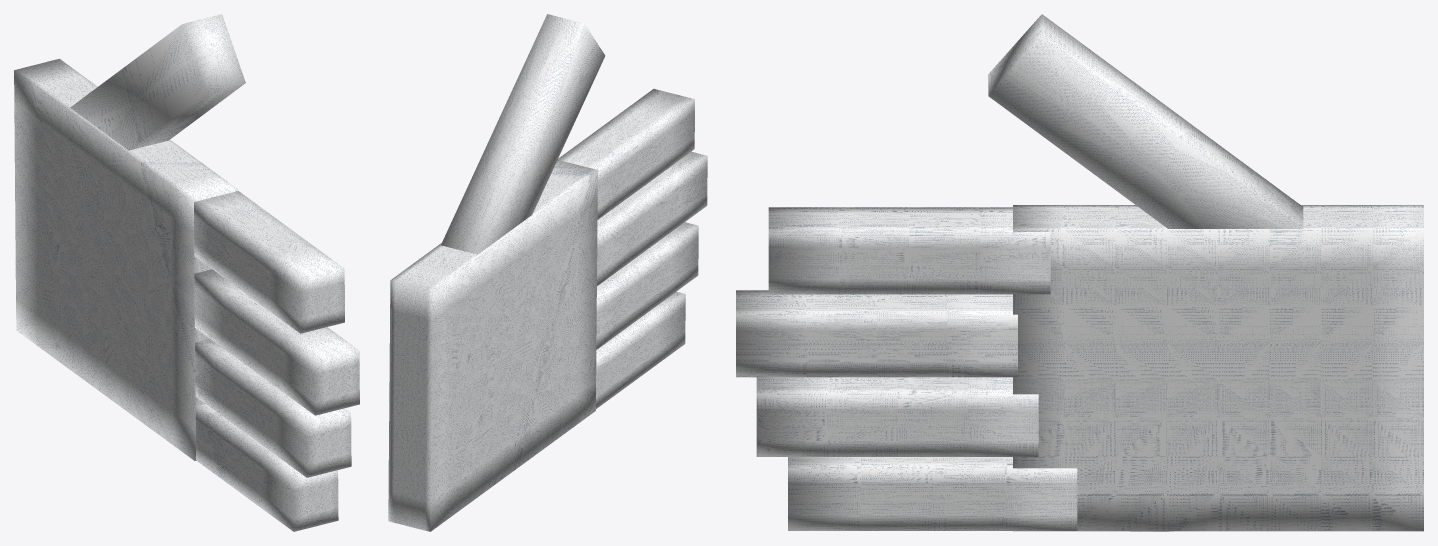
Rendered from Hand_Right_Openned.obj.
3 views of the same model, side by side, from view 1: azimuth 30°, elevation 25°; view 2: azimuth 150°, elevation 25°; view 3: azimuth 270°, elevation 25° (orthographic). The views are drawn at different scales.
Visible parts, largest first — view 1: Mesh1 G_3DGeom_1 cube_2 SimLab_2017_03_27_20_32_27_1 Model, Mesh5 G_3DGeom_5 cube4_1 SimLab_2017_03_27_20_32_27_1 Model, Mesh6 G_3DGeom_6 cube5_0 SimLab_2017_03_27_20_32_27_1 Model, Mesh4 G_3DGeom_4 cube3_1 SimLab_2017_03_27_20_32_27_1 Model, Mesh3 G_3DGeom_3 cube2_1 SimLab_2017_03_27_20_32_27_1 Model, Mesh2 G_3DGeom_2 cube1_1 SimLab_2017_03_27_20_32_27_1 Model; view 2: Mesh1 G_3DGeom_1 cube_2 SimLab_2017_03_27_20_32_27_1 Model, Mesh6 G_3DGeom_6 cube5_0 SimLab_2017_03_27_20_32_27_1 Model, Mesh5 G_3DGeom_5 cube4_1 SimLab_2017_03_27_20_32_27_1 Model, Mesh4 G_3DGeom_4 cube3_1 SimLab_2017_03_27_20_32_27_1 Model, Mesh3 G_3DGeom_3 cube2_1 SimLab_2017_03_27_20_32_27_1 Model, Mesh2 G_3DGeom_2 cube1_1 SimLab_2017_03_27_20_32_27_1 Model; view 3: Mesh1 G_3DGeom_1 cube_2 SimLab_2017_03_27_20_32_27_1 Model, Mesh6 G_3DGeom_6 cube5_0 SimLab_2017_03_27_20_32_27_1 Model, Mesh5 G_3DGeom_5 cube4_1 SimLab_2017_03_27_20_32_27_1 Model, Mesh4 G_3DGeom_4 cube3_1 SimLab_2017_03_27_20_32_27_1 Model, Mesh3 G_3DGeom_3 cube2_1 SimLab_2017_03_27_20_32_27_1 Model, Mesh2 G_3DGeom_2 cube1_1 SimLab_2017_03_27_20_32_27_1 Model.
Boxes of the visible parts, left/top/right/bottom form: Mesh1 G_3DGeom_1 cube_2 SimLab_2017_03_27_20_32_27_1 Model: left=14, top=58, right=238, bottom=460; Mesh5 G_3DGeom_5 cube4_1 SimLab_2017_03_27_20_32_27_1 Model: left=194, top=191, right=344, bottom=333; Mesh6 G_3DGeom_6 cube5_0 SimLab_2017_03_27_20_32_27_1 Model: left=70, top=14, right=245, bottom=150; Mesh4 G_3DGeom_4 cube3_1 SimLab_2017_03_27_20_32_27_1 Model: left=194, top=269, right=359, bottom=415; Mesh3 G_3DGeom_3 cube2_1 SimLab_2017_03_27_20_32_27_1 Model: left=195, top=339, right=351, bottom=477; Mesh2 G_3DGeom_2 cube1_1 SimLab_2017_03_27_20_32_27_1 Model: left=195, top=404, right=338, bottom=531; Mesh1 G_3DGeom_1 cube_2 SimLab_2017_03_27_20_32_27_1 Model: left=388, top=160, right=597, bottom=531; Mesh6 G_3DGeom_6 cube5_0 SimLab_2017_03_27_20_32_27_1 Model: left=441, top=14, right=605, bottom=254; Mesh5 G_3DGeom_5 cube4_1 SimLab_2017_03_27_20_32_27_1 Model: left=557, top=89, right=694, bottom=219; Mesh4 G_3DGeom_4 cube3_1 SimLab_2017_03_27_20_32_27_1 Model: left=597, top=151, right=707, bottom=285; Mesh3 G_3DGeom_3 cube2_1 SimLab_2017_03_27_20_32_27_1 Model: left=596, top=222, right=698, bottom=349; Mesh2 G_3DGeom_2 cube1_1 SimLab_2017_03_27_20_32_27_1 Model: left=596, top=291, right=685, bottom=408; Mesh1 G_3DGeom_1 cube_2 SimLab_2017_03_27_20_32_27_1 Model: left=1013, top=205, right=1423, bottom=531; Mesh6 G_3DGeom_6 cube5_0 SimLab_2017_03_27_20_32_27_1 Model: left=988, top=14, right=1303, bottom=228; Mesh5 G_3DGeom_5 cube4_1 SimLab_2017_03_27_20_32_27_1 Model: left=768, top=207, right=1050, bottom=294; Mesh4 G_3DGeom_4 cube3_1 SimLab_2017_03_27_20_32_27_1 Model: left=736, top=290, right=1017, bottom=377; Mesh3 G_3DGeom_3 cube2_1 SimLab_2017_03_27_20_32_27_1 Model: left=756, top=377, right=1038, bottom=456; Mesh2 G_3DGeom_2 cube1_1 SimLab_2017_03_27_20_32_27_1 Model: left=788, top=457, right=1077, bottom=530.
Bounding box in the file's own units: 0.0175 × 0.1498 × 0.1883.
